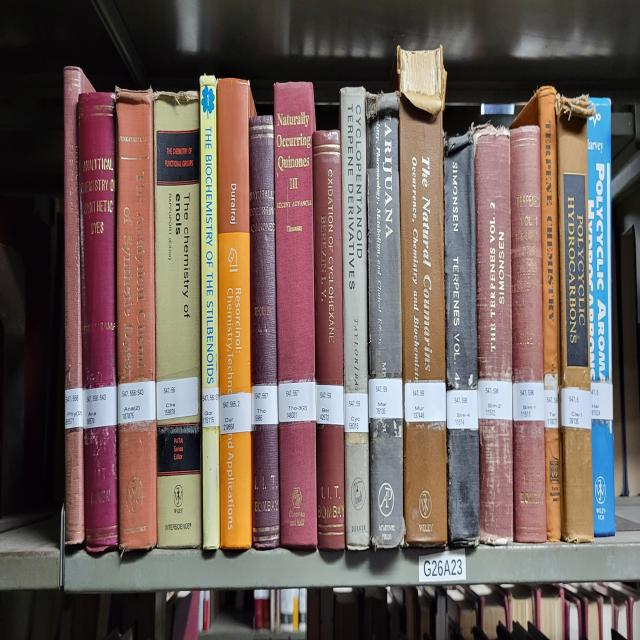Book: (398, 49, 448, 547), (511, 87, 561, 541), (154, 92, 202, 547), (154, 92, 201, 549), (274, 81, 318, 549), (116, 89, 158, 552), (79, 92, 119, 552), (555, 95, 595, 541), (366, 92, 405, 549), (474, 127, 514, 544), (510, 124, 546, 544), (444, 130, 480, 544), (340, 87, 370, 549), (312, 130, 345, 549), (249, 116, 280, 549), (588, 97, 615, 536), (64, 68, 94, 400), (200, 76, 220, 549), (219, 233, 251, 395), (65, 422, 85, 544)
Label: (156, 376, 199, 419), (404, 381, 446, 422), (118, 381, 156, 425), (278, 381, 316, 422), (82, 387, 118, 430), (219, 392, 251, 436), (478, 379, 512, 419), (369, 379, 402, 419), (446, 390, 479, 430), (512, 381, 544, 422), (561, 387, 591, 430), (251, 384, 279, 427), (316, 384, 344, 425), (344, 392, 369, 433), (65, 387, 84, 430), (591, 381, 612, 419), (202, 387, 219, 427), (544, 390, 559, 427)
